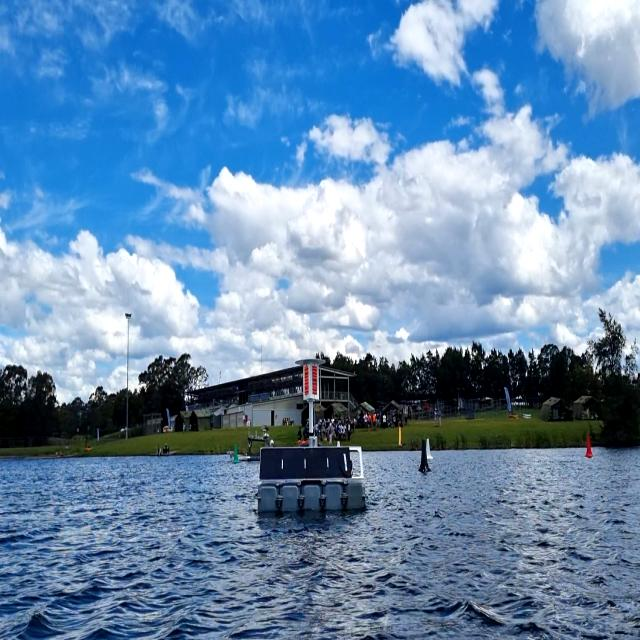led: (304, 364, 318, 398), (311, 363, 318, 398), (304, 364, 310, 397)
